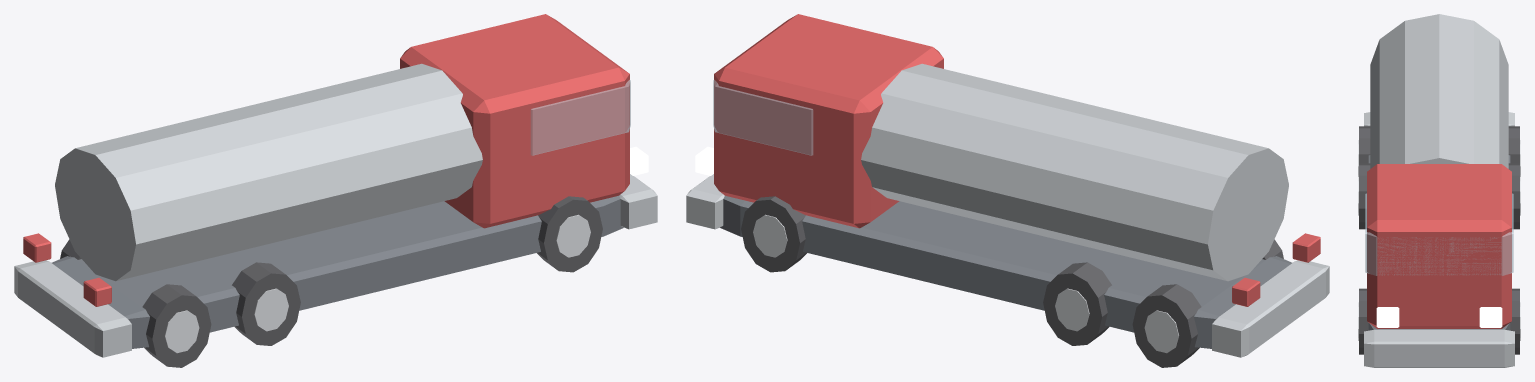
The model's file is b15_fire_water_tender.glb.
3 renders of one model, left to right at view 1: azimuth 30°, elevation 25°; view 2: azimuth 150°, elevation 25°; view 3: azimuth 270°, elevation 25°, orthographic. The views are drawn at different scales.
Visible parts, largest first — view 1: b15_fire_water_tender; view 2: b15_fire_water_tender; view 3: b15_fire_water_tender.
Part boxes in pixels (x1,y1,x2,y2): b15_fire_water_tender: [14, 14, 657, 367]; b15_fire_water_tender: [686, 14, 1329, 367]; b15_fire_water_tender: [1358, 14, 1520, 367].
Size of the model in its own units: 9.85 by 3.16 by 2.91.
